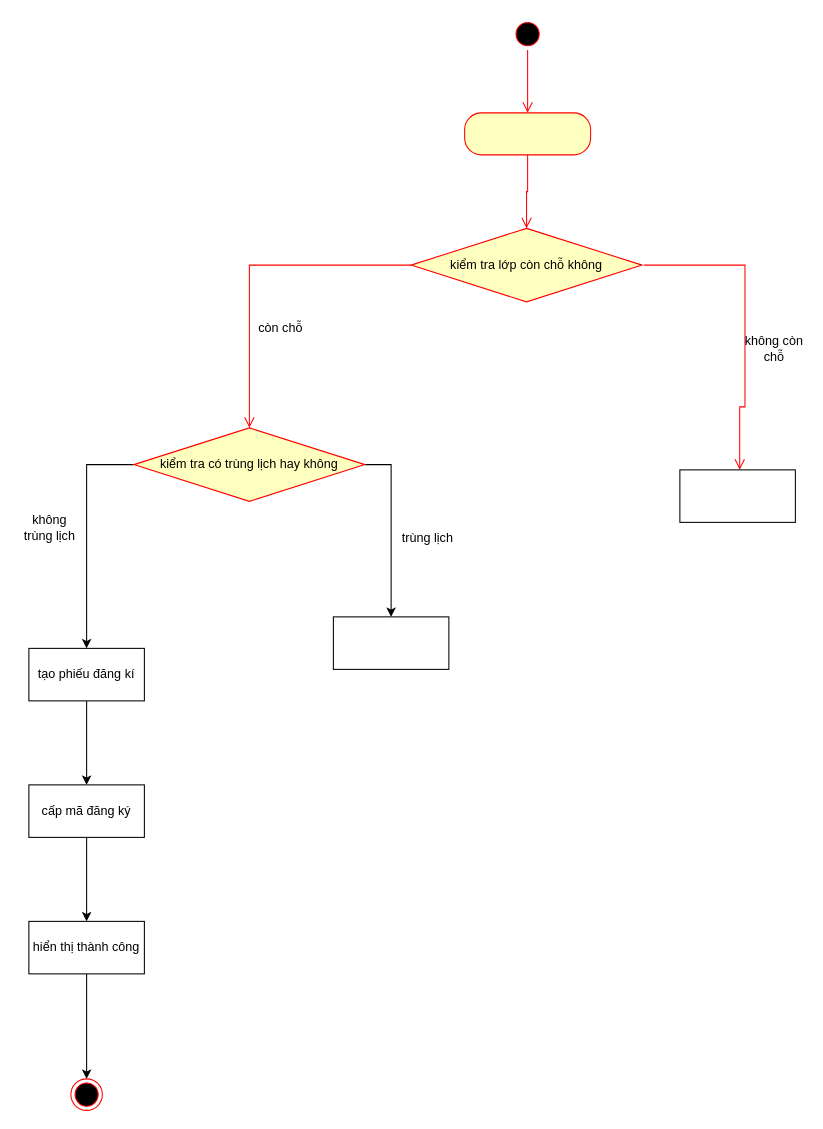
Image size: 823x1129. Some labels were removed from this diagram. The centre of each missing label's shape, as x and y in pixels:
Học viên bấm "xác nhận đăng ký": (527,133)
luồng A2: thông báo, quay về bước 3: (737,495)
thông báo và quay lại bước 3: (390,642)
